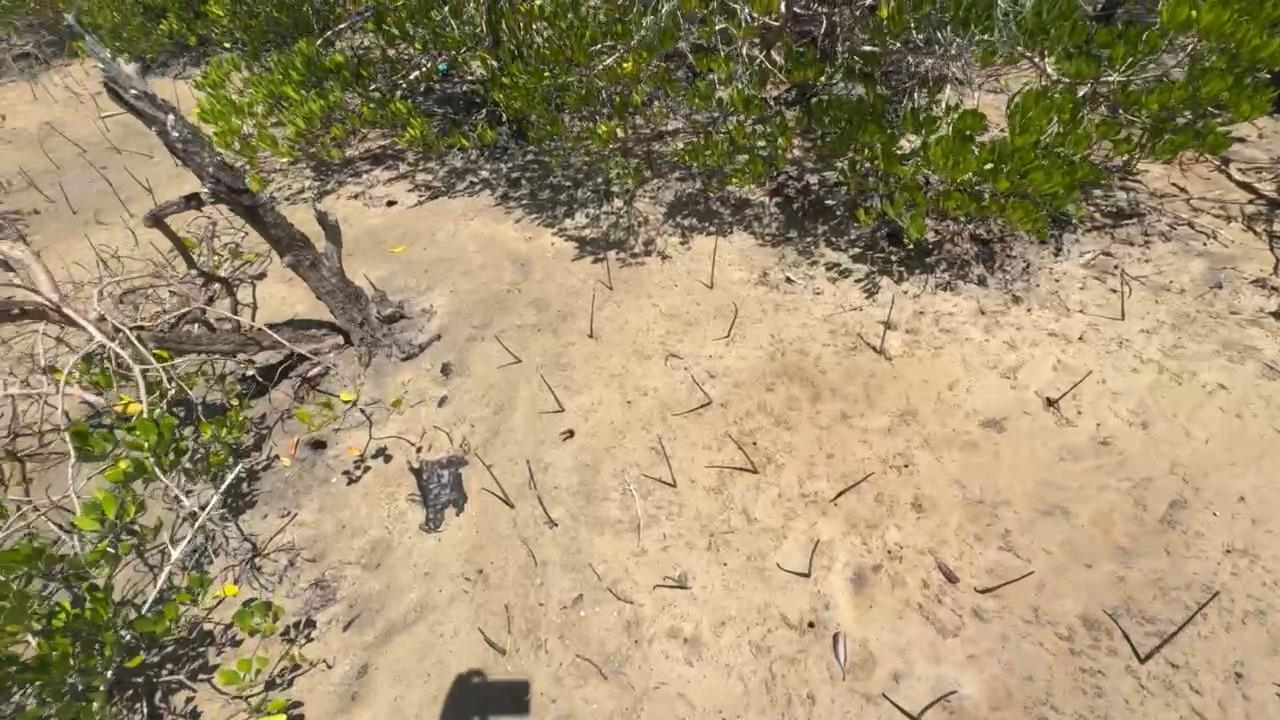Tree: (1139, 590, 1221, 664), (473, 451, 515, 510), (1049, 369, 1093, 406), (1119, 268, 1147, 322), (17, 166, 56, 204), (828, 472, 875, 503), (982, 570, 1036, 596), (726, 432, 759, 474), (915, 690, 959, 720), (46, 122, 87, 153), (91, 119, 123, 155), (79, 153, 112, 187), (878, 293, 896, 352), (539, 373, 565, 412), (84, 232, 110, 270), (658, 436, 677, 488), (88, 92, 110, 132), (108, 183, 133, 218), (493, 334, 523, 363), (477, 627, 507, 656), (536, 494, 559, 527), (124, 165, 150, 192), (148, 241, 173, 268), (105, 146, 155, 159), (60, 78, 85, 104), (38, 141, 60, 170), (690, 374, 712, 403), (35, 77, 58, 104), (58, 181, 76, 215), (119, 215, 138, 247), (213, 206, 236, 230), (807, 538, 820, 578), (709, 236, 718, 289), (663, 575, 692, 590), (727, 300, 738, 338), (604, 248, 613, 290), (145, 178, 157, 208), (589, 288, 596, 339), (526, 458, 536, 490), (172, 78, 181, 113), (183, 79, 196, 102), (363, 272, 377, 291), (26, 79, 38, 100), (169, 154, 179, 168)
